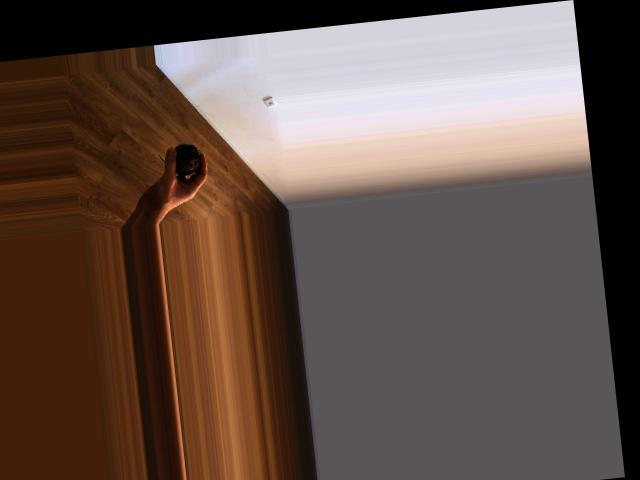beet: (158, 141, 202, 177)
